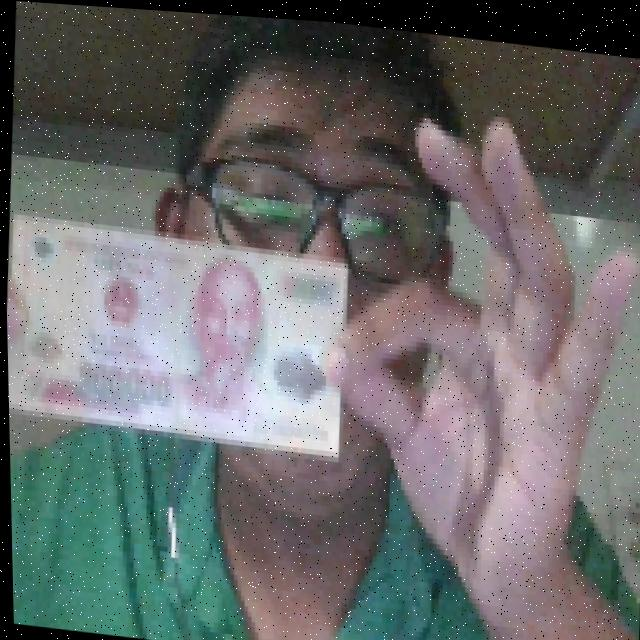200 000 VND: (4, 203, 359, 459)
